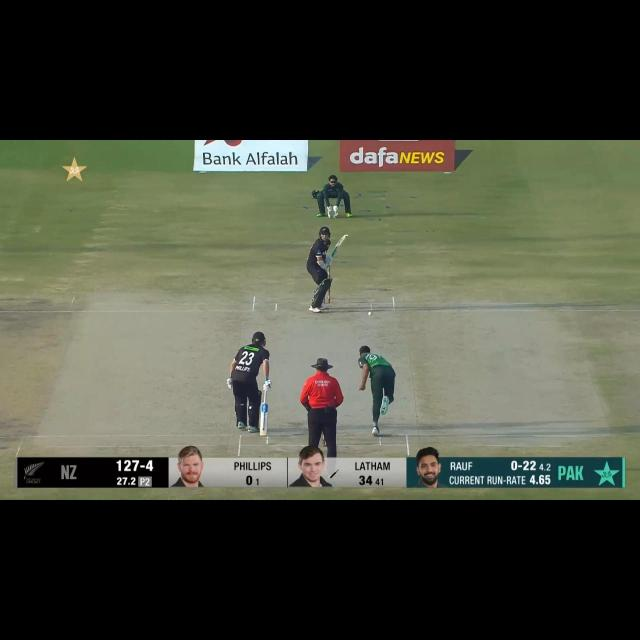bat: (327, 233, 349, 260), (258, 403, 270, 437)
toe: (341, 233, 351, 241), (260, 426, 266, 436)
